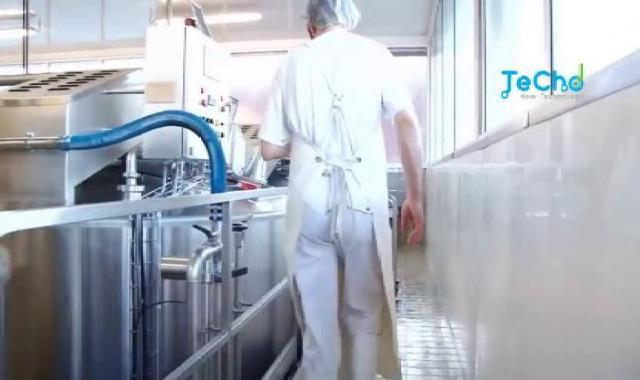Apron: (290, 56, 402, 380)
Hairnet: (303, 0, 363, 30)
No_Glove: (400, 200, 425, 244)
